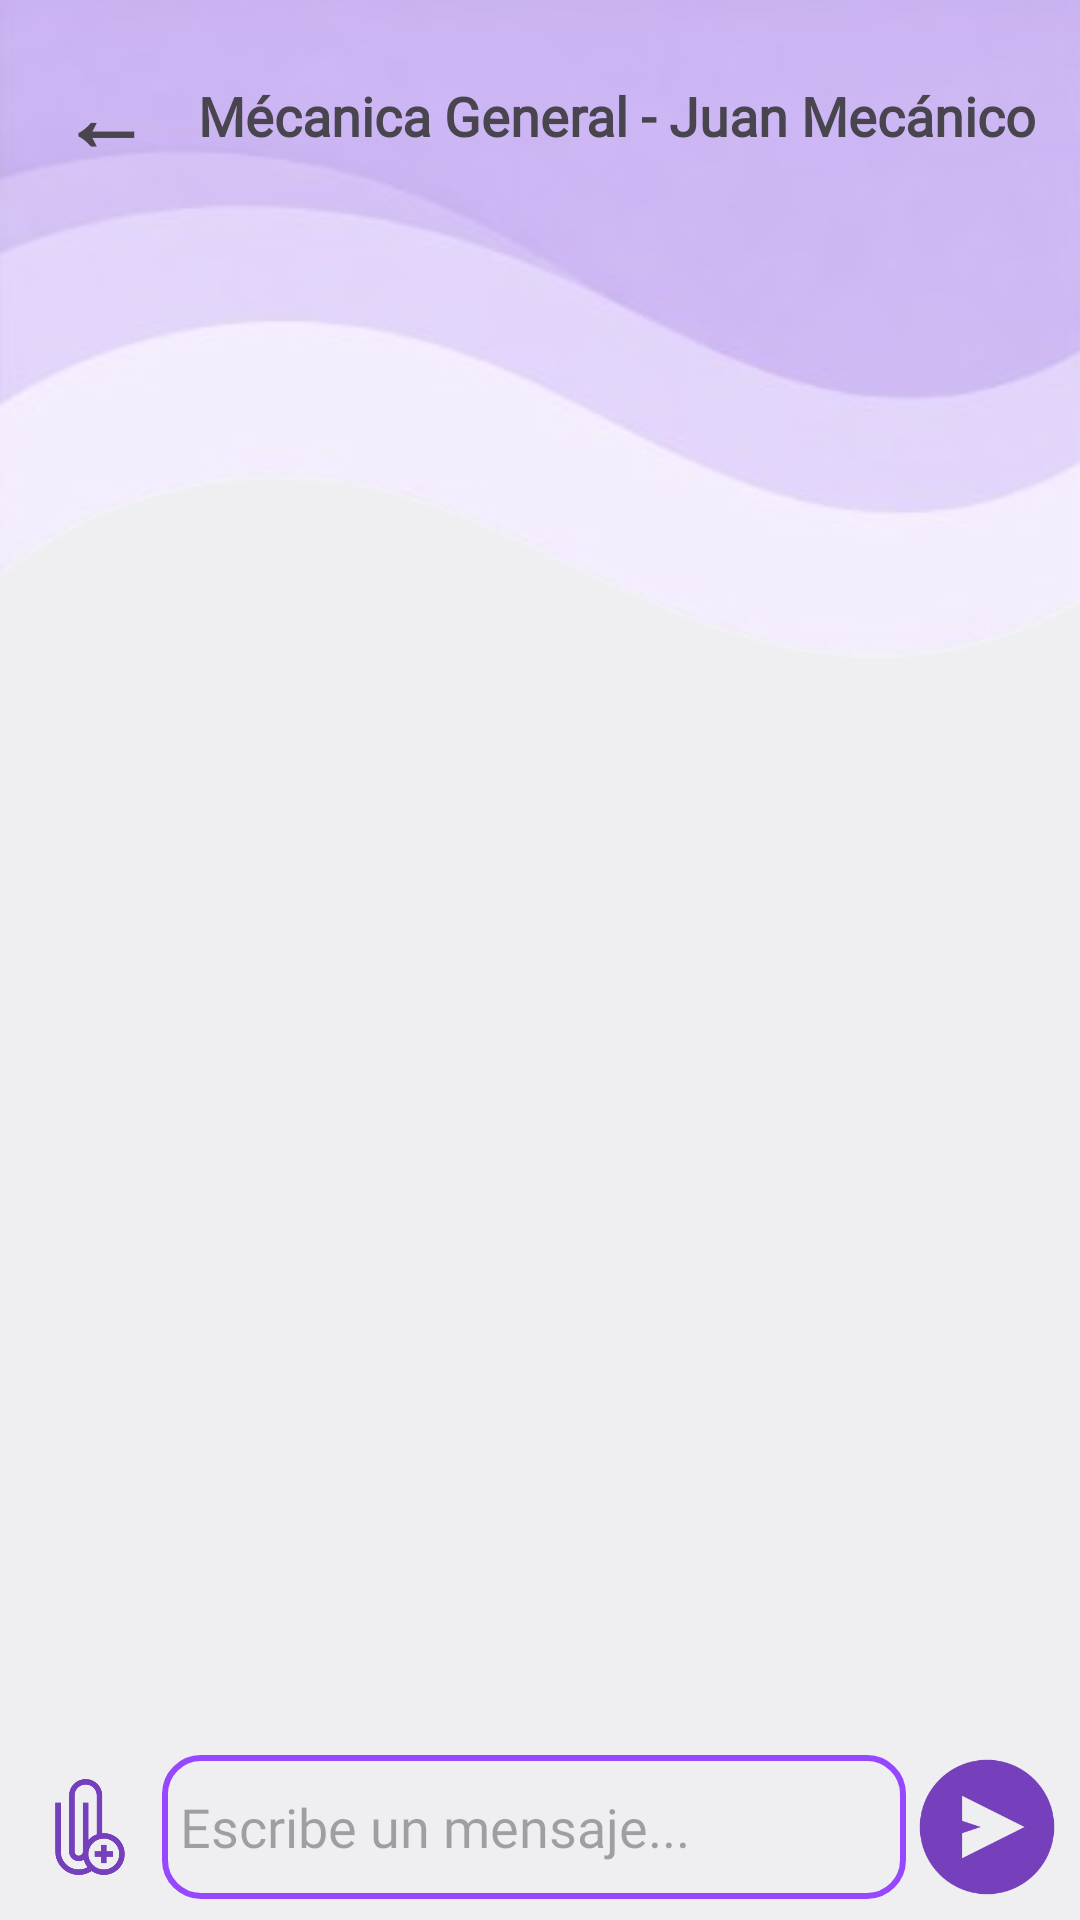

Point at icon controls on the screen. Image size 1080px×1920px, points as (x=x, y=y).
Add picture: (x=90, y=1827)
Send message: (x=987, y=1827)
